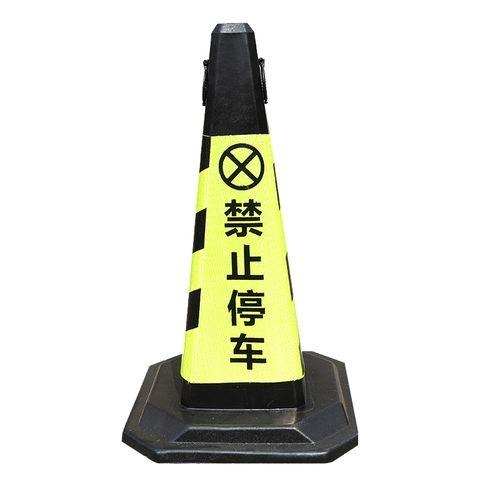cone_barrel: (143, 26, 325, 436)
